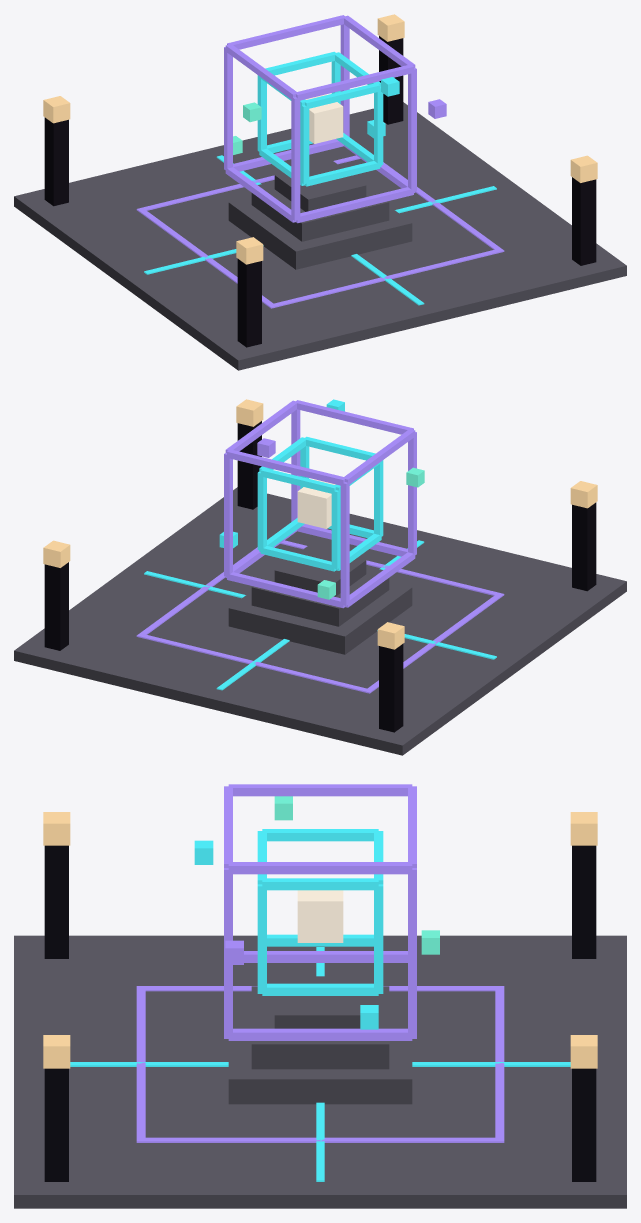
File: plot.glb
3 renders of one model, top to bottom at view 1: azimuth 30°, elevation 25°; view 2: azimuth 150°, elevation 25°; view 3: azimuth 270°, elevation 25°, orthographic. The views are drawn at different scales.
Visible parts, largest first — view 1: sculpture_structure, ring_outer, sculpture_emissive, ring_inner, core_cube; view 2: sculpture_structure, ring_outer, sculpture_emissive, ring_inner, core_cube; view 3: sculpture_structure, sculpture_emissive, ring_outer, ring_inner, core_cube.
Part boxes in pixels (x1,y1,x2,y2): sculpture_structure: (14, 36, 626, 370); ring_outer: (224, 15, 416, 223); sculpture_emissive: (43, 14, 597, 308); ring_inner: (257, 51, 383, 186); core_cube: (305, 94, 343, 143); sculpture_structure: (14, 421, 626, 755); ring_outer: (224, 400, 416, 608); sculpture_emissive: (43, 399, 597, 693); ring_inner: (257, 436, 383, 571); core_cube: (297, 479, 335, 528); sculpture_structure: (14, 845, 626, 1208); sculpture_emissive: (43, 796, 597, 1181); ring_outer: (224, 784, 416, 1040); ring_inner: (257, 829, 383, 995); core_cube: (297, 890, 343, 942).
Bounding box in the file's own units: 10 × 4.57 × 10.
2 materials, 2 textured.
